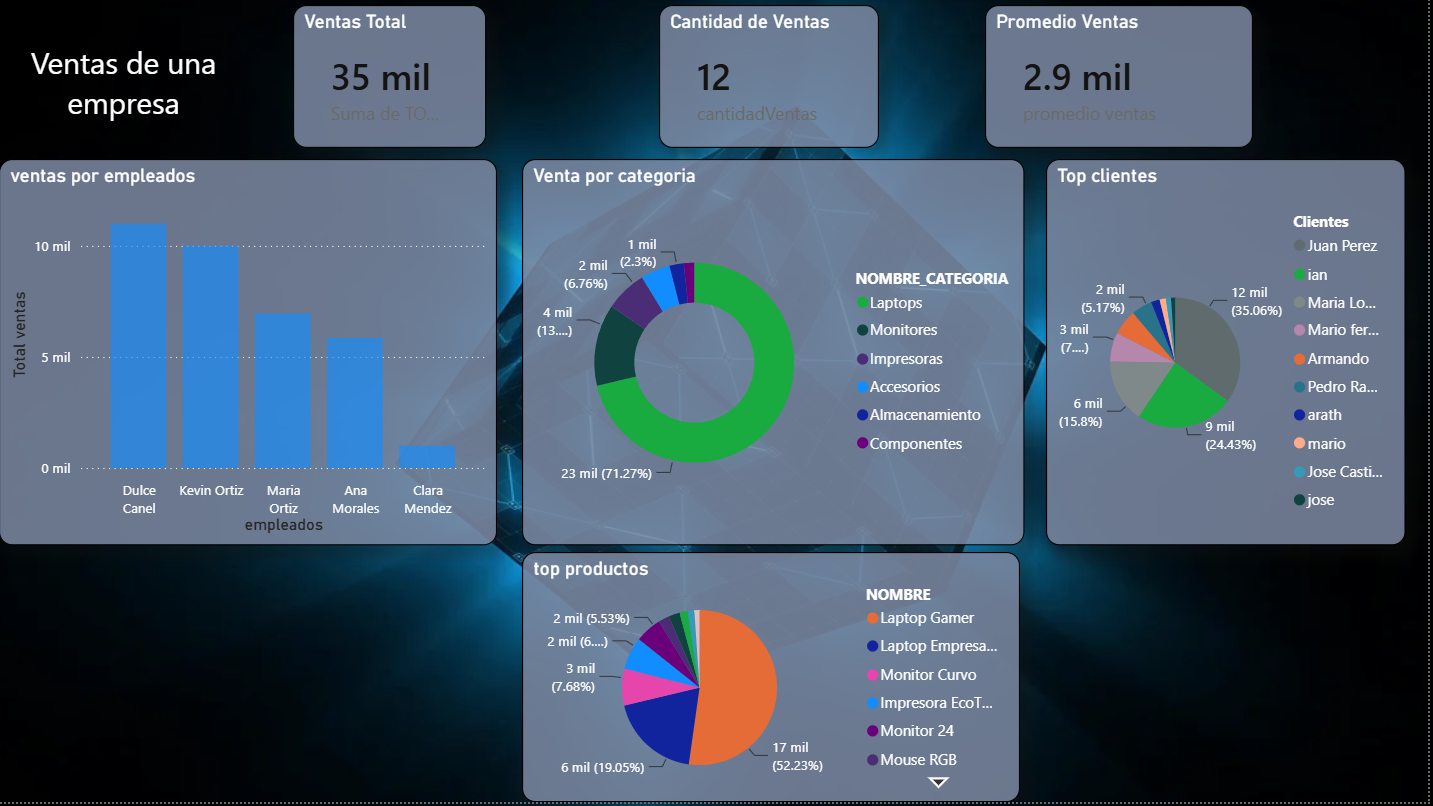

The dashboard page shown, as its layout file describes it:
{"tool":"powerbi","page":{"name":"Página 1","canvas":[1280,720],"ordinal":0},"visuals":[{"type":"cardVisual","title":"Ventas Total ","fields":{"Data":["Sum(Ventas.TOTAL)"]},"box":[263.3,6.3,172.8,128.1],"z":0},{"type":"cardVisual","title":"Cantidad de Ventas","fields":{"Data":["Clientes.cantidadVentas"]},"box":[591,6.3,197,128.1],"z":1},{"type":"cardVisual","title":"Promedio Ventas","fields":{"Data":["Clientes.promedio ventas"]},"box":[883,6.3,240,128.1],"z":2},{"type":"columnChart","title":"ventas por empleados","fields":{"Category":["empleados.NOMBRE"],"Y":["Sum(Ventas.TOTAL)"]},"box":[0,144.2,446,345.7],"z":3},{"type":"pieChart","title":"Top clientes ","fields":{"Category":["Clientes.NOMBRE"],"Y":["Sum(Ventas.TOTAL)"]},"box":[937.6,144.2,322.4,345.7],"z":4},{"type":"donutChart","title":"Venta por categoria","fields":{"Category":["categorias.NOMBRE_CATEGORIA"],"Y":["Sum(detalle.SUBTOTAL)"]},"box":[468.4,144.2,449.6,345.7],"z":5},{"type":"pieChart","title":"top productos","fields":{"Category":["productos.NOMBRE"],"Y":["Sum(detalle.SUBTOTAL)"]},"box":[468.4,496.1,446,223.9],"z":6},{"type":"textbox","box":[0,34,223,100.3],"z":7}]}

Visuals, with their boxes in screenshot pixels (x1, y1, x2, y2), scaled from the page's 1280x720 canvas onto the 1433x806 screenshot:
"Ventas Total " cardVisual: [left=295, top=7, right=488, bottom=150]
"Cantidad de Ventas" cardVisual: [left=662, top=7, right=882, bottom=150]
"Promedio Ventas" cardVisual: [left=989, top=7, right=1257, bottom=150]
"ventas por empleados" columnChart: [left=0, top=161, right=499, bottom=548]
"Top clientes " pieChart: [left=1050, top=161, right=1411, bottom=548]
"Venta por categoria" donutChart: [left=524, top=161, right=1028, bottom=548]
"top productos" pieChart: [left=524, top=555, right=1024, bottom=805]
textbox: [left=0, top=38, right=250, bottom=150]
